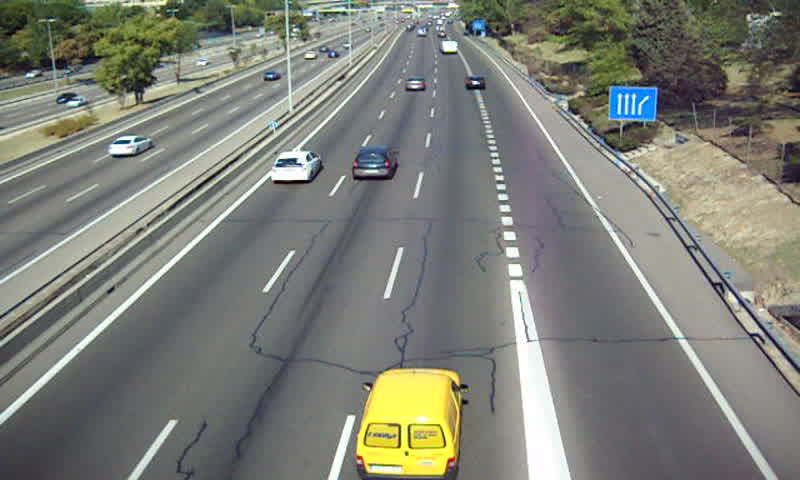car: (271, 150, 322, 182), (351, 148, 397, 180), (404, 74, 426, 90), (464, 77, 487, 91)
van: (357, 367, 463, 480)
